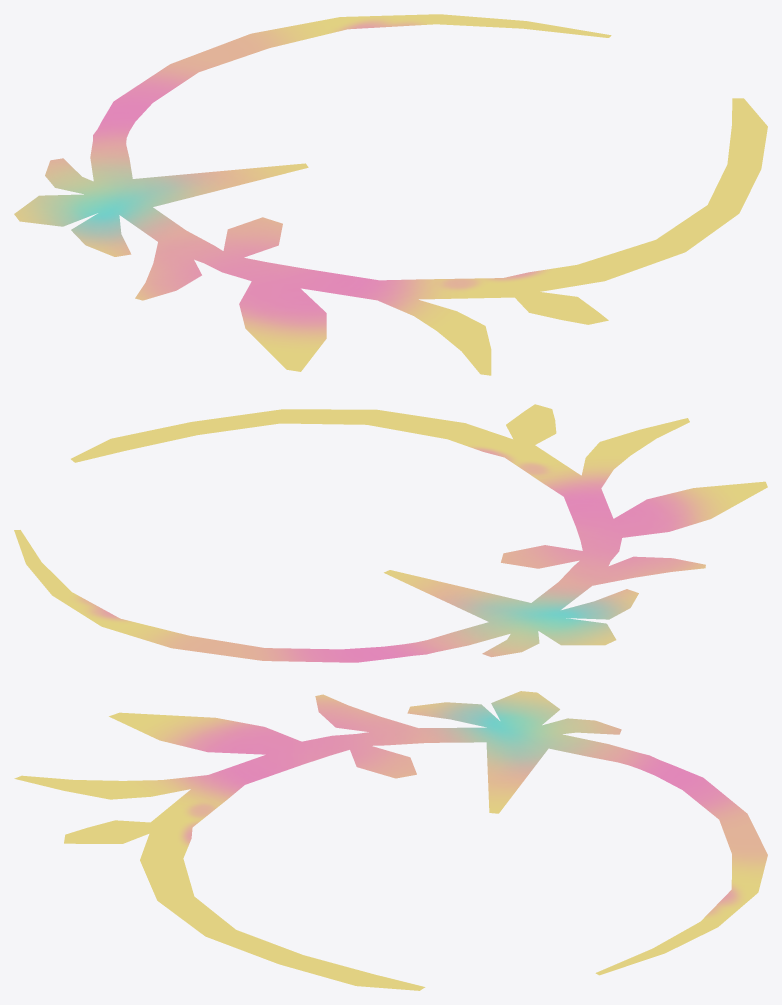
File: azusa_box_halo.glb
3 renders of one model, top to bottom at view 1: azimuth 30°, elevation 25°; view 2: azimuth 150°, elevation 25°; view 3: azimuth 270°, elevation 25°, orthographic. The views are drawn at different scales.
Parts seen in each view (by area): view 1: halo; view 2: halo; view 3: halo.
Boxes of the visible parts, bbox=[...] form: halo: bbox=[14, 14, 767, 375]; halo: bbox=[14, 404, 767, 662]; halo: bbox=[14, 691, 767, 990].
Bounding box in the file's own units: 0.6038 × 1.19e-07 × 0.6416.
1 material, 1 textured.
